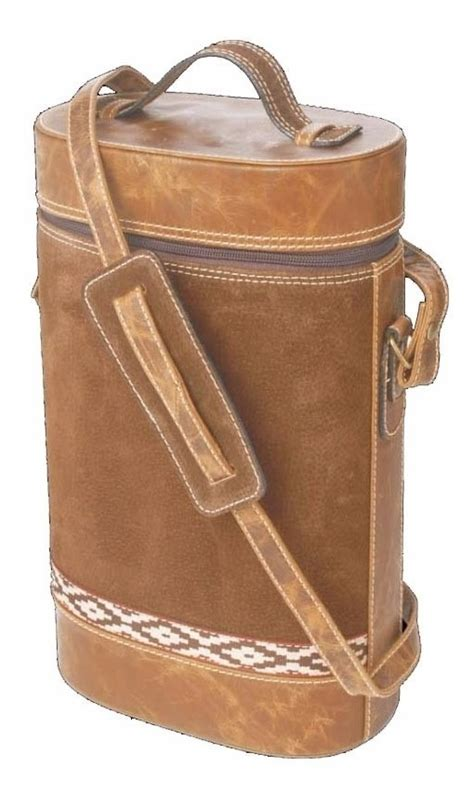cuero: (30, 41, 444, 759)
